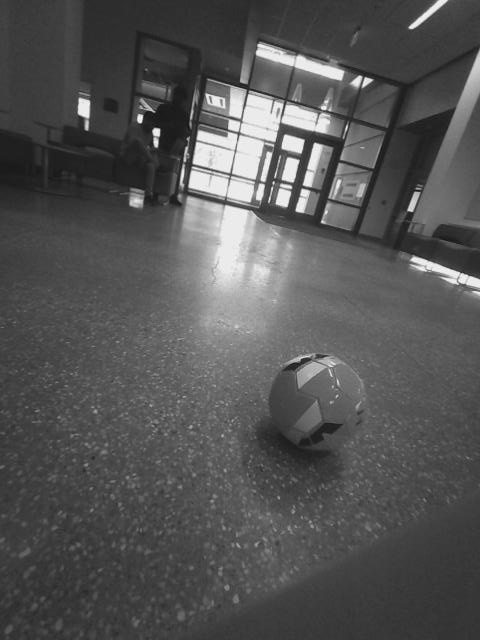ball: (261, 351, 372, 466)
